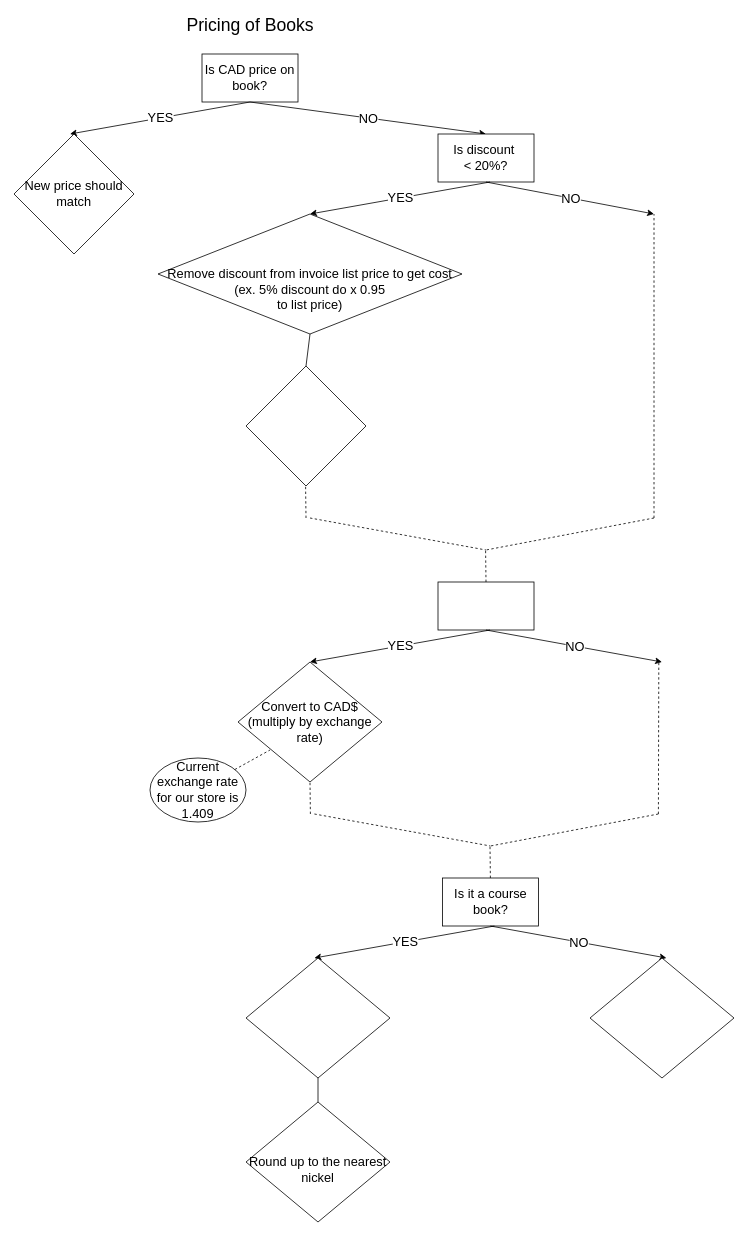
Image size: 748x1236. Some labels were removed from this diagram. Each missing label, with the centre of its shape:
Add 25% of that price ( x 1.25): (x=305, y=425)
Add retail charge of 2% ( x 1.02): (x=317, y=1017)
Is the price USD on the invoice?: (x=485, y=605)
Leave price as is: (x=661, y=1017)
